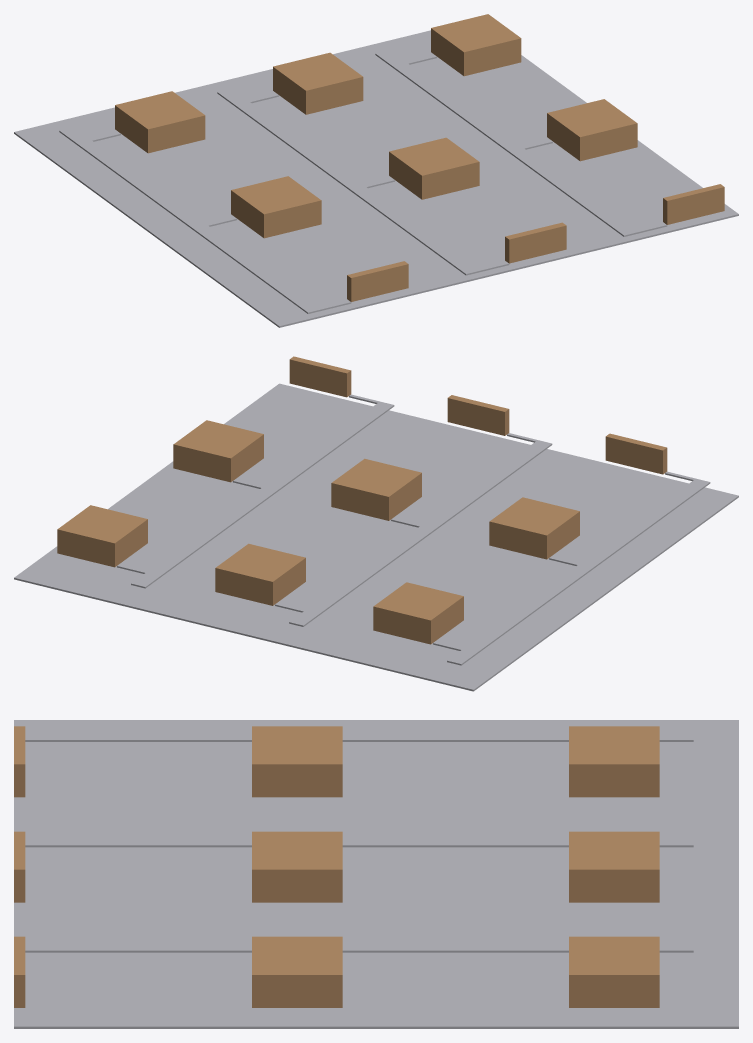
File: city_c03_00.glb
3 views of the same model, one above another, from view 1: azimuth 30°, elevation 25°; view 2: azimuth 150°, elevation 25°; view 3: azimuth 270°, elevation 25° (orthographic). The views are drawn at different scales.
Visible parts, largest first — view 1: terrain_east_proxy__c03_00, building_009__c03_00, building_017__c03_00, building_018__c03_00, building_019__c03_00, building_007__c03_00, building_008__c03_00, road_east_3__c03_00, road_east_2__c03_00, road_east_4__c03_00, building_029__c03_00, building_028__c03_00 (+1 smaller); view 2: terrain_east_proxy__c03_00, building_017__c03_00, building_018__c03_00, building_019__c03_00, building_007__c03_00, building_008__c03_00, building_009__c03_00, road_east_4__c03_00, road_east_2__c03_00, road_east_3__c03_00, building_027__c03_00, building_028__c03_00 (+1 smaller); view 3: terrain_east_proxy__c03_00, building_007__c03_00, building_008__c03_00, building_009__c03_00, building_017__c03_00, building_018__c03_00, building_019__c03_00, road_east_3__c03_00, road_east_2__c03_00, road_east_4__c03_00, building_027__c03_00, building_028__c03_00 (+1 smaller).
Part boxes in pixels (bbox=[...]): terrain_east_proxy__c03_00: bbox=[14, 30, 738, 327]; building_009__c03_00: bbox=[115, 91, 205, 153]; building_017__c03_00: bbox=[547, 99, 637, 161]; building_018__c03_00: bbox=[389, 137, 479, 199]; building_019__c03_00: bbox=[231, 176, 321, 238]; building_007__c03_00: bbox=[431, 14, 521, 76]; building_008__c03_00: bbox=[273, 52, 363, 114]; road_east_3__c03_00: bbox=[217, 88, 480, 275]; road_east_2__c03_00: bbox=[375, 50, 638, 236]; road_east_4__c03_00: bbox=[59, 127, 322, 313]; building_029__c03_00: bbox=[347, 261, 408, 301]; building_028__c03_00: bbox=[505, 222, 566, 263]; terrain_east_proxy__c03_00: bbox=[14, 383, 738, 691]; building_017__c03_00: bbox=[173, 420, 263, 482]; building_018__c03_00: bbox=[331, 458, 421, 520]; building_019__c03_00: bbox=[489, 497, 579, 559]; building_007__c03_00: bbox=[57, 505, 147, 567]; building_008__c03_00: bbox=[215, 543, 305, 605]; building_009__c03_00: bbox=[373, 582, 463, 644]; road_east_4__c03_00: bbox=[447, 478, 710, 665]; road_east_2__c03_00: bbox=[131, 401, 394, 588]; road_east_3__c03_00: bbox=[289, 440, 552, 626]; building_027__c03_00: bbox=[289, 356, 351, 397]; building_028__c03_00: bbox=[447, 395, 509, 435]; terrain_east_proxy__c03_00: bbox=[14, 720, 738, 1028]; building_007__c03_00: bbox=[569, 936, 659, 1007]; building_008__c03_00: bbox=[569, 831, 659, 902]; building_009__c03_00: bbox=[569, 726, 659, 797]; building_017__c03_00: bbox=[252, 936, 342, 1007]; building_018__c03_00: bbox=[252, 831, 342, 902]; building_019__c03_00: bbox=[252, 726, 342, 797]; road_east_3__c03_00: bbox=[25, 835, 693, 847]; road_east_2__c03_00: bbox=[25, 941, 693, 952]; road_east_4__c03_00: bbox=[25, 730, 693, 741]; building_027__c03_00: bbox=[14, 936, 25, 1007]; building_028__c03_00: bbox=[14, 831, 25, 902].
Bounding box in the file's own units: 128 × 8.6 × 128.
